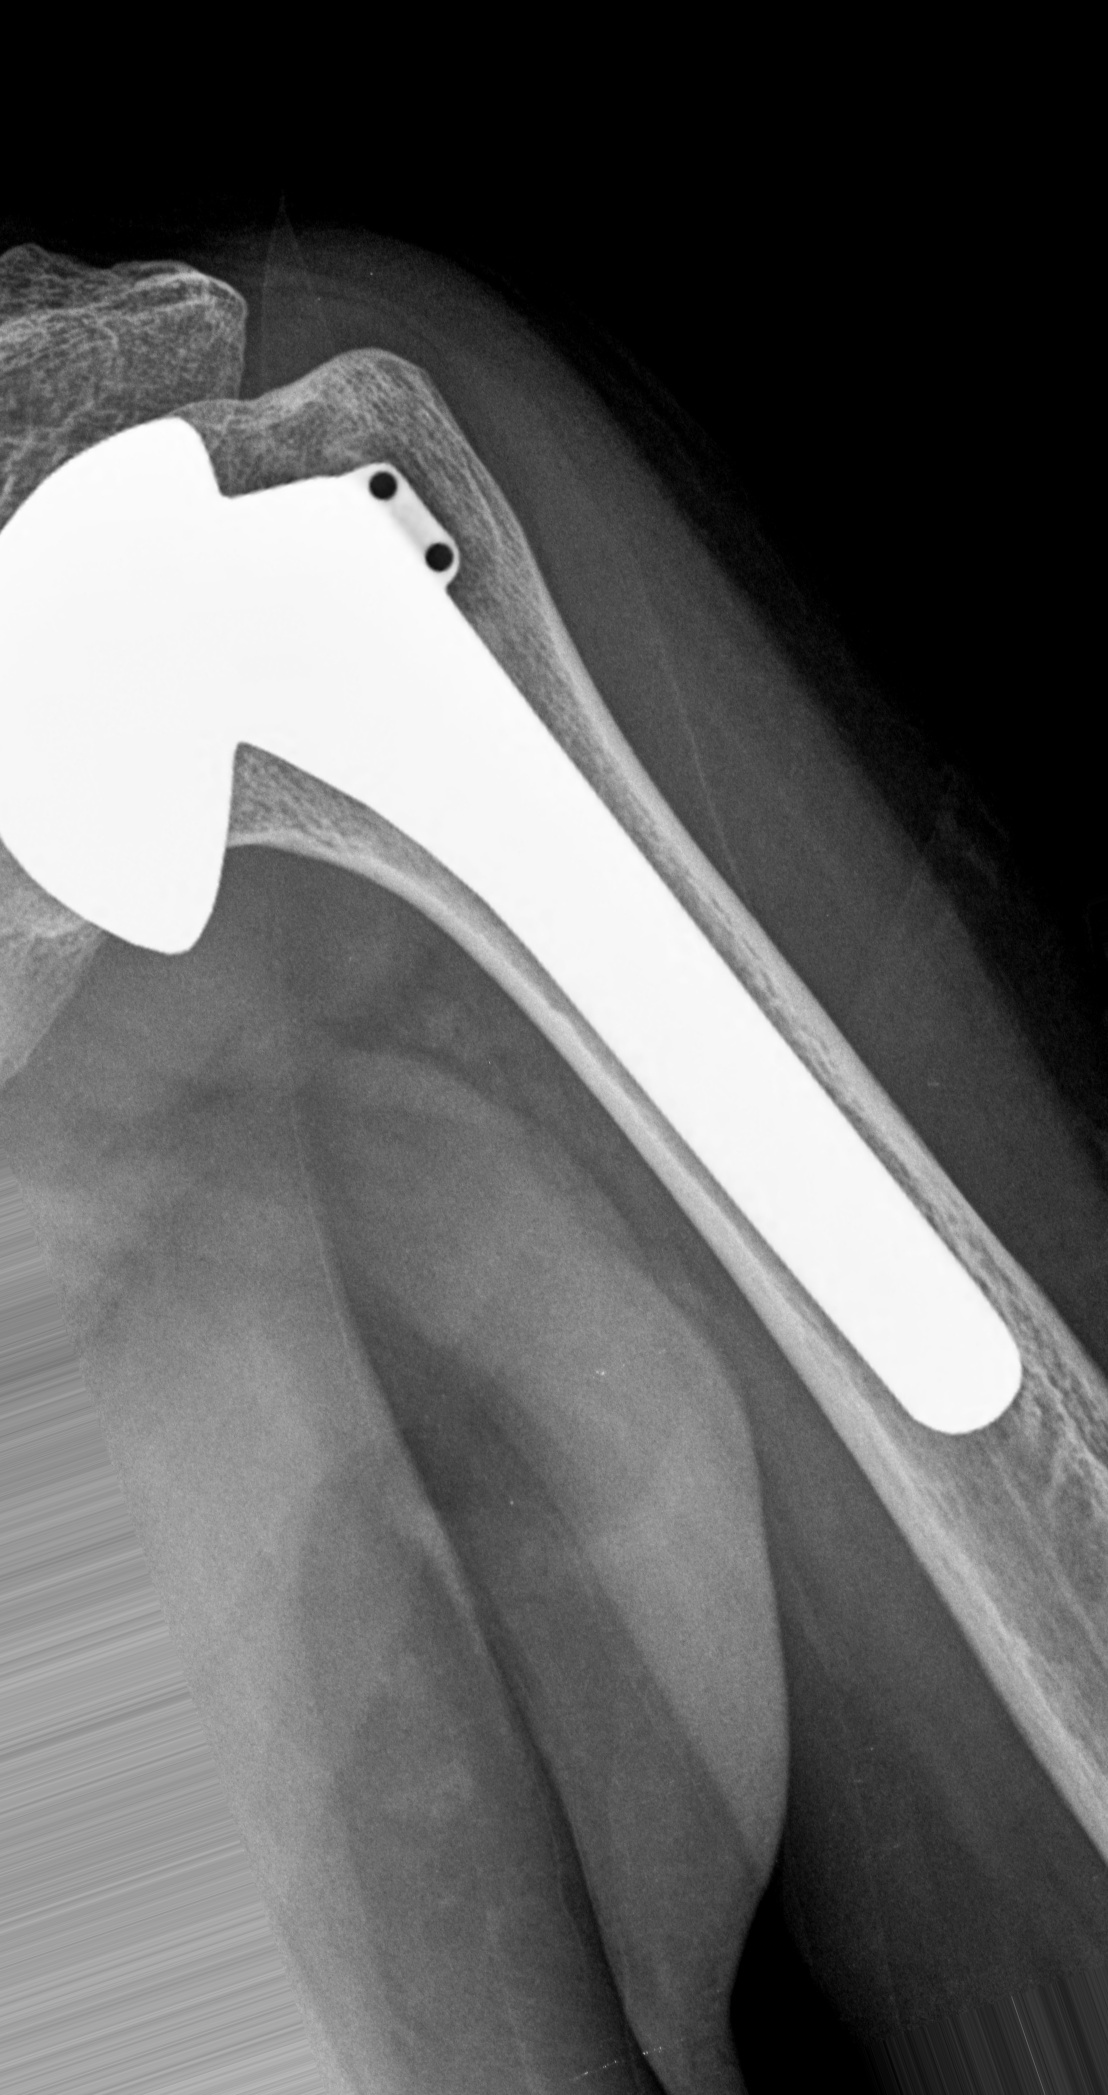Shoulder - AequalisPressfit - Tornier: (1, 409, 470, 966)
